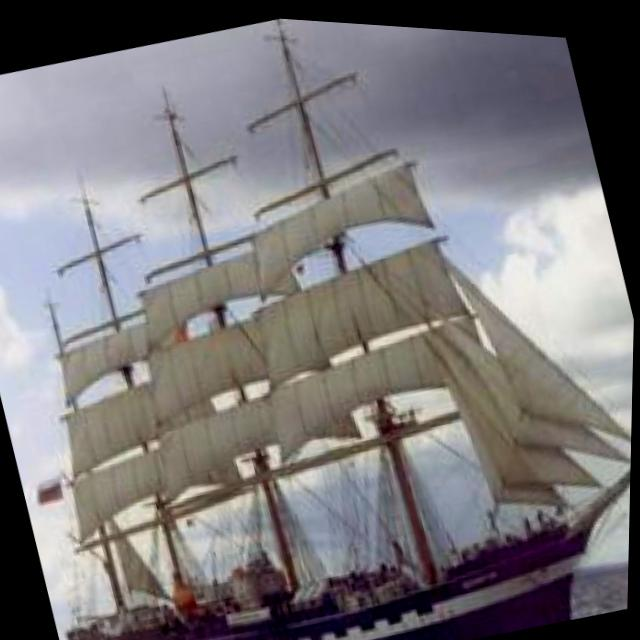ship2: (56, 15, 633, 640)
